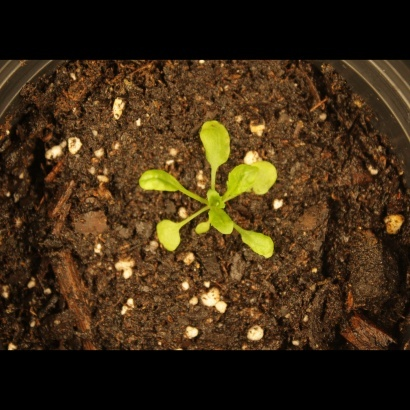leaf: (137, 167, 199, 204), (192, 117, 230, 171), (150, 215, 191, 253), (225, 161, 259, 200), (241, 232, 285, 262), (246, 161, 283, 196), (205, 209, 240, 239), (192, 219, 215, 242), (204, 187, 227, 210)
